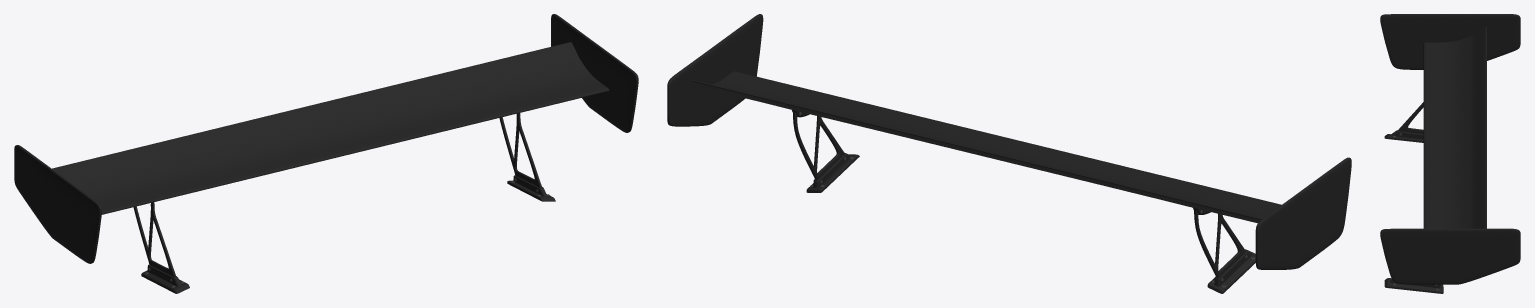
Rendered from Spoiler.glb.
3 views of the same model, side by side, from view 1: azimuth 30°, elevation 25°; view 2: azimuth 150°, elevation 25°; view 3: azimuth 270°, elevation 25° (orthographic). The views are drawn at different scales.
Parts seen in each view (by area): view 1: Spojler; view 2: Spojler; view 3: Spojler.
Boxes of the visible parts, box(x1,y1,x2,y2) form: Spojler: box(14, 14, 638, 293); Spojler: box(667, 14, 1351, 293); Spojler: box(1380, 14, 1520, 293).
Size of the model in its own units: 4.62 by 0.9623 by 1.27.
Materials: 2 (1 with a texture image).
